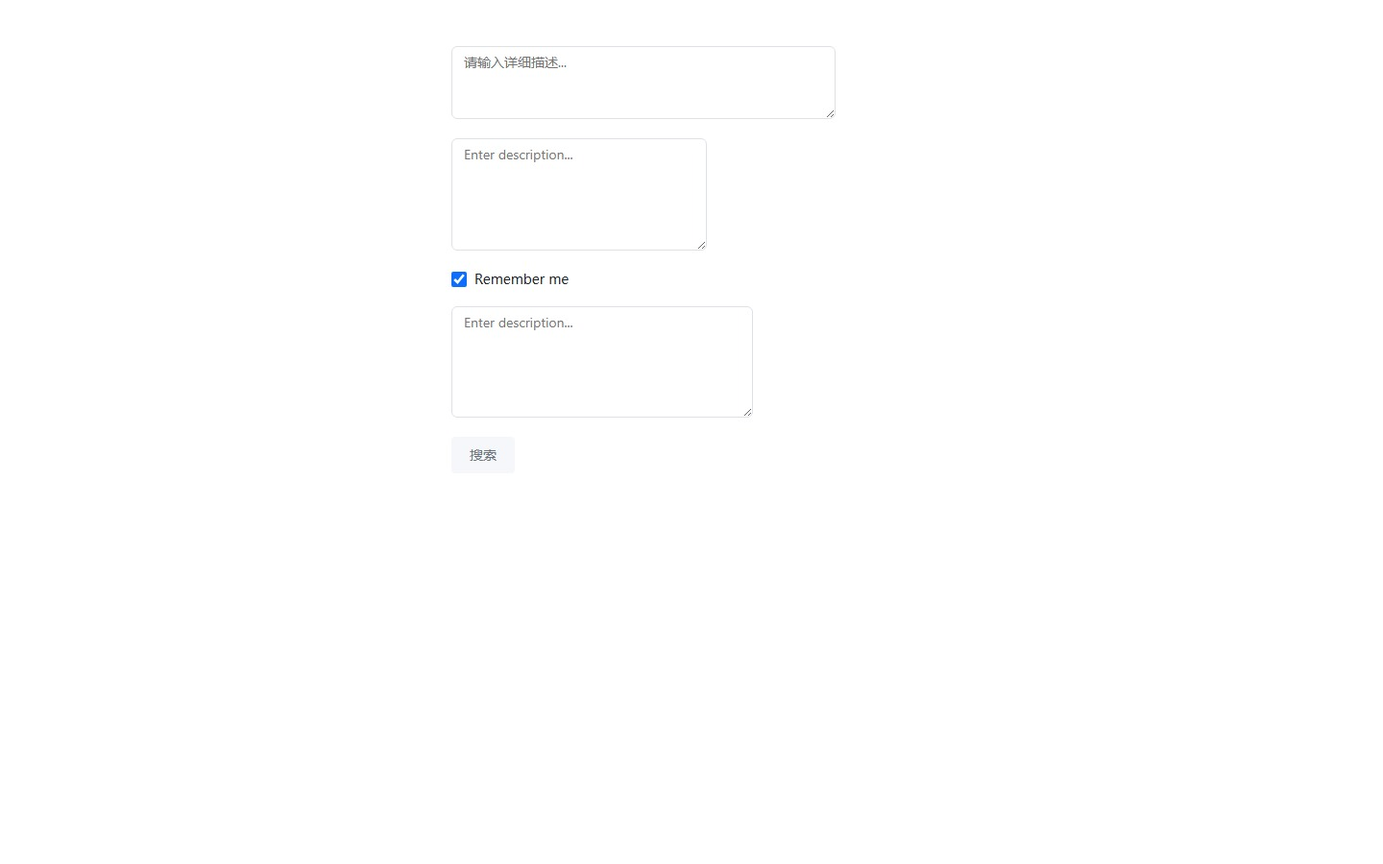button: (451, 436, 515, 473)
checkbox: (451, 271, 467, 287)
icon: (474, 270, 569, 288)
radio: (451, 270, 569, 288)
textarea: (451, 306, 753, 417), (451, 138, 707, 251), (451, 46, 836, 119)
